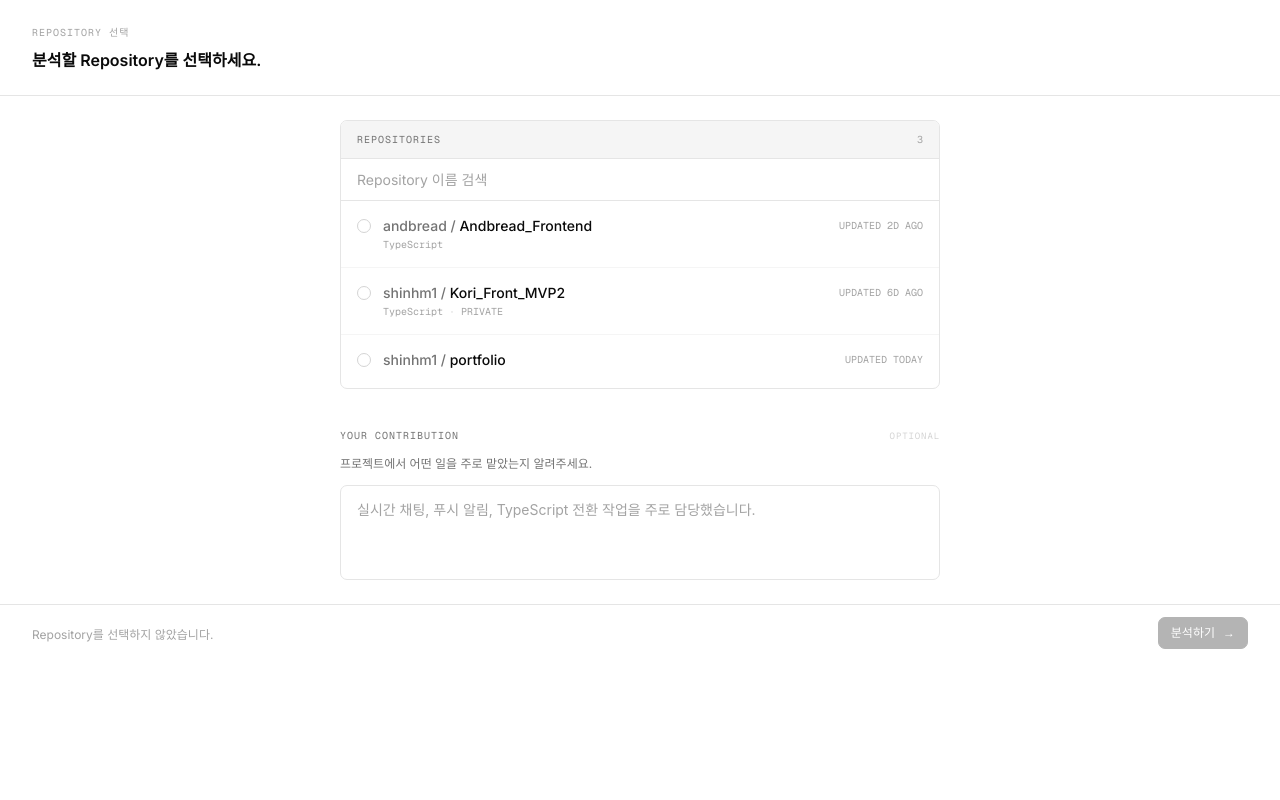
Test: RepositorySelectScreen 목록 › 검색은 name과 owner를 대소문자 구분 없이 거르고 전체 개수는 그대로 둔다
Expected: the heading "분석할 Repository를 선택하세요." is shown, [32,50,261,70]
In the search field named "Repository 검색": (640, 180) [341,159,939,200], type "SHINHM"
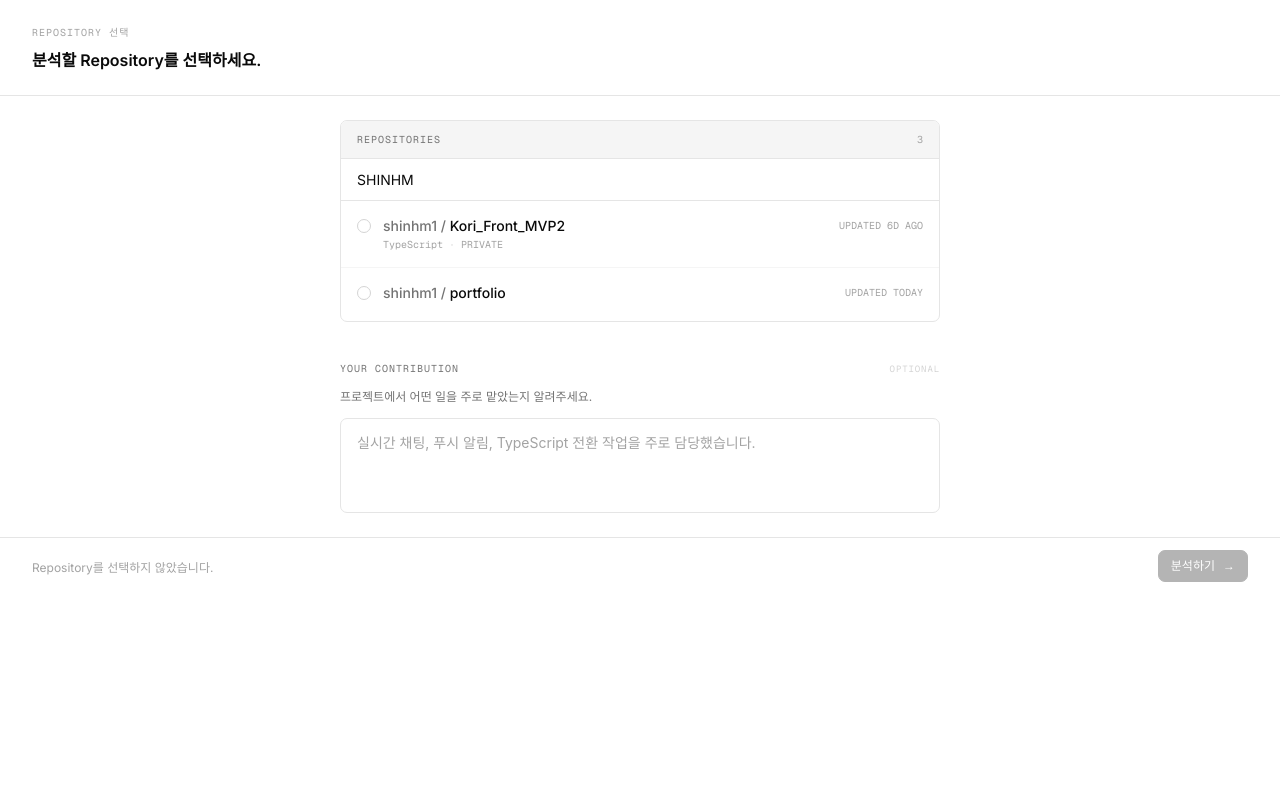
Expected: the text "3" is shown, [917,133,923,146]
Expected: the number of radio buttons is 2, [341,201,939,267]; [341,268,939,321]
Replace the text in the search field named "Repository 검색" with "portfolio": (640, 180) [341,159,939,200]
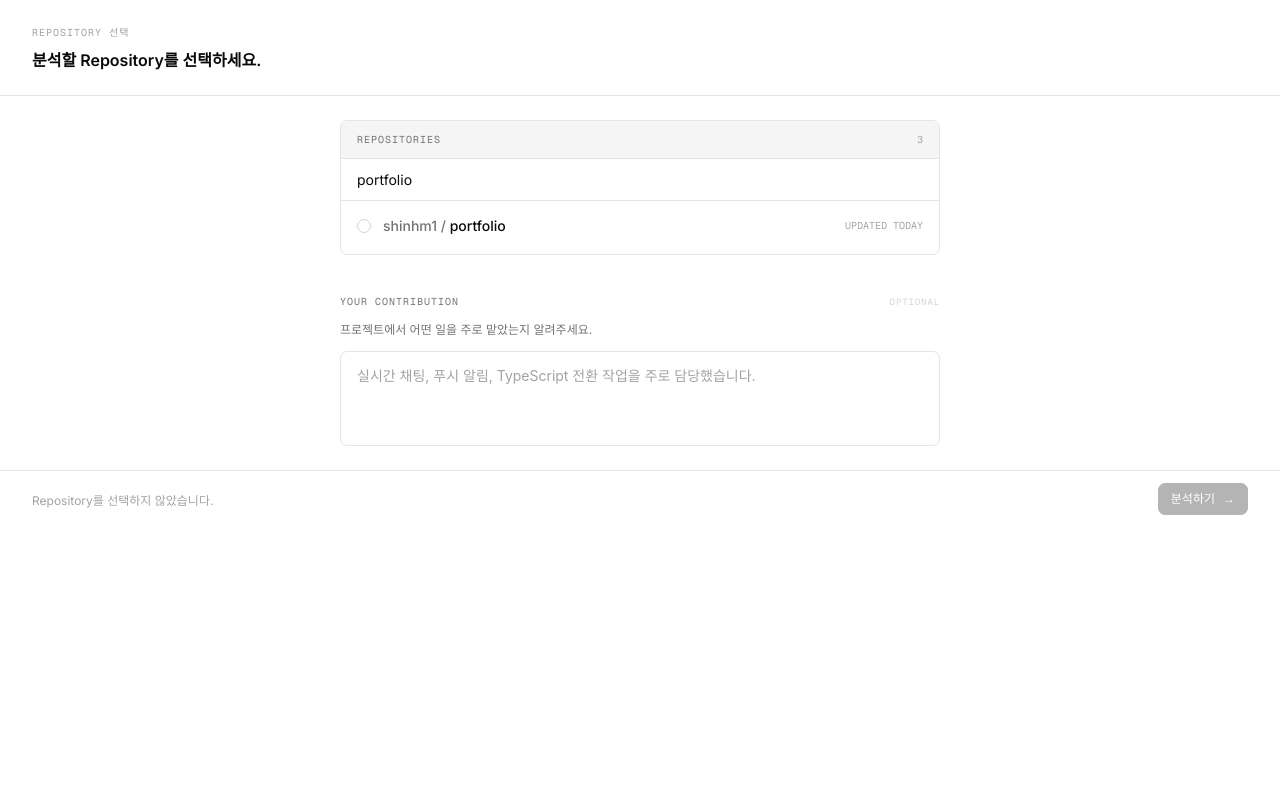
Expected: the number of radio buttons is 1, [341,201,939,254]
